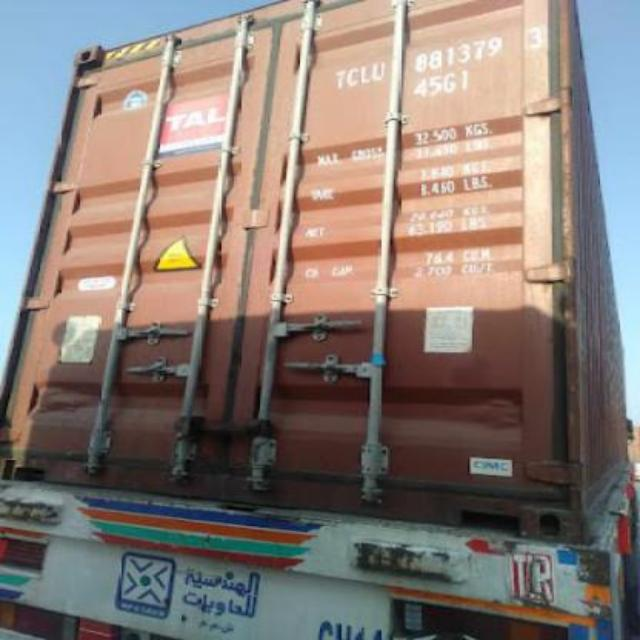1: (446, 46, 454, 68)
3: (524, 26, 546, 50), (456, 42, 470, 64)
7: (472, 39, 486, 63)
8: (429, 50, 443, 70), (415, 51, 427, 73)
9: (488, 36, 502, 58)
C: (348, 66, 358, 88)
L: (361, 66, 369, 86)
T: (334, 68, 346, 90)
U: (372, 61, 386, 83)
